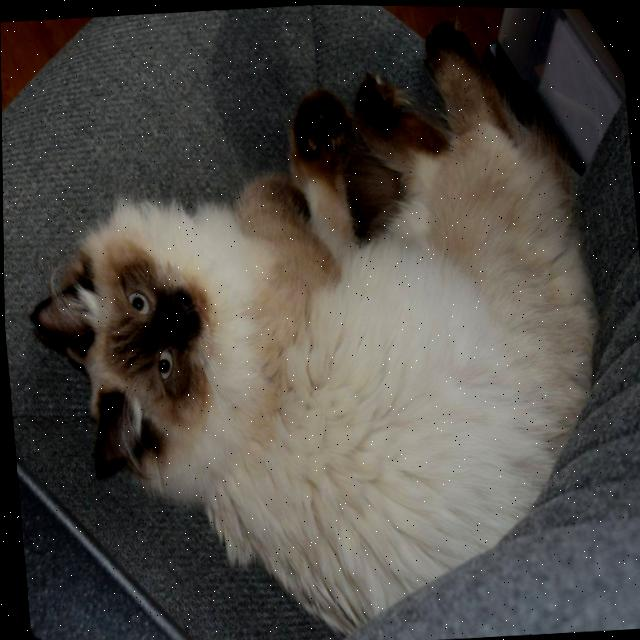Neva Masquerade: (0, 0, 624, 640)
